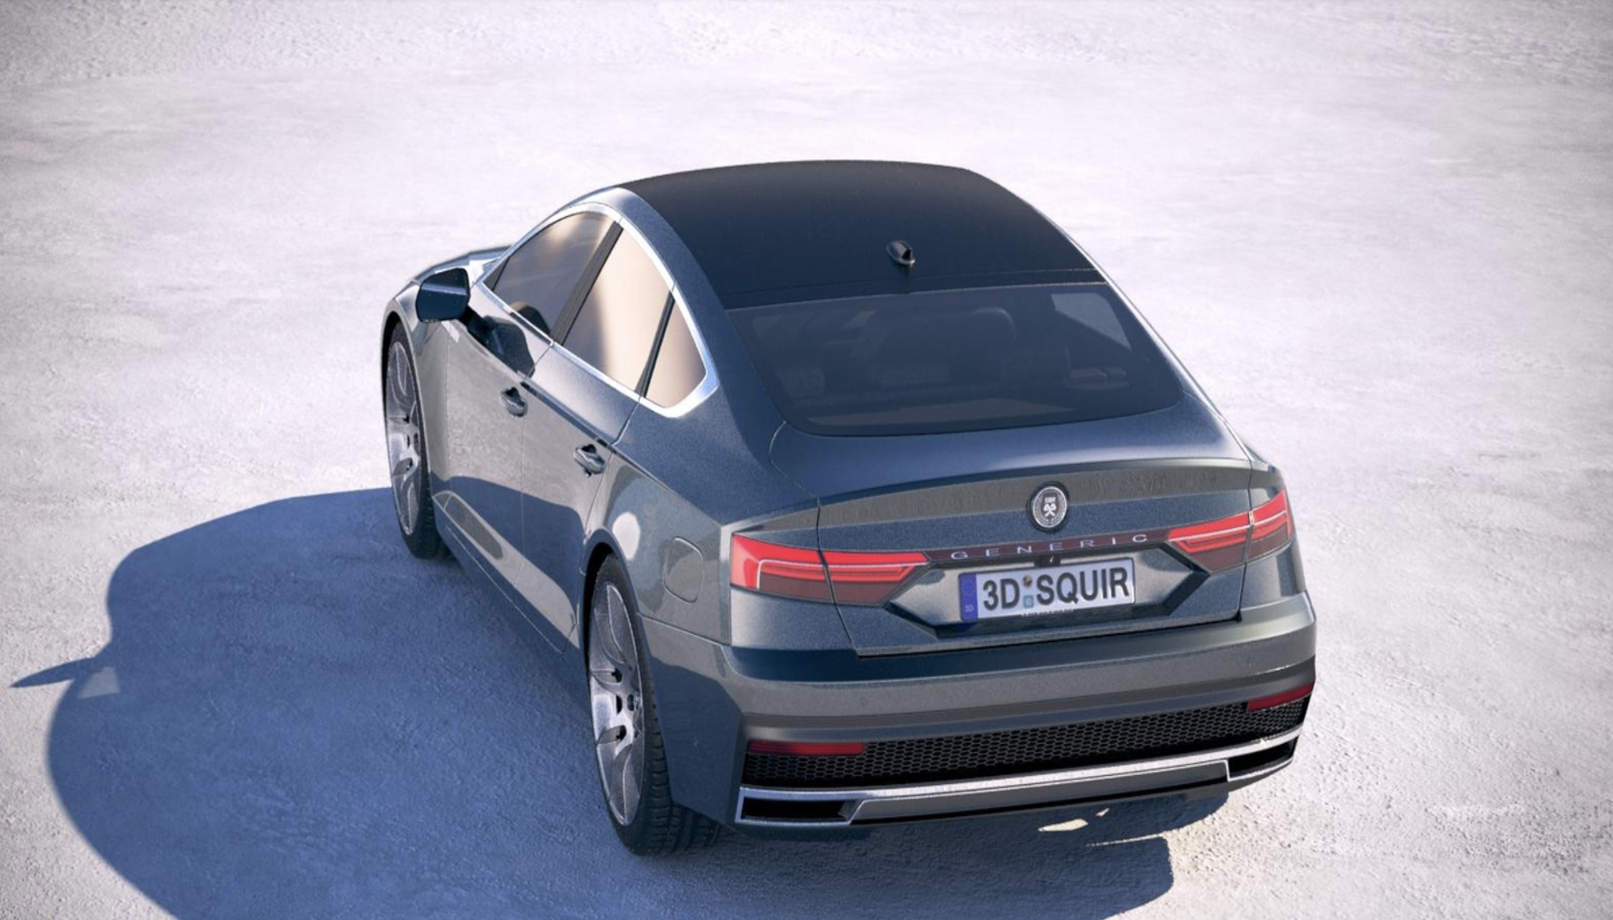hatch: (655, 532, 715, 613)
